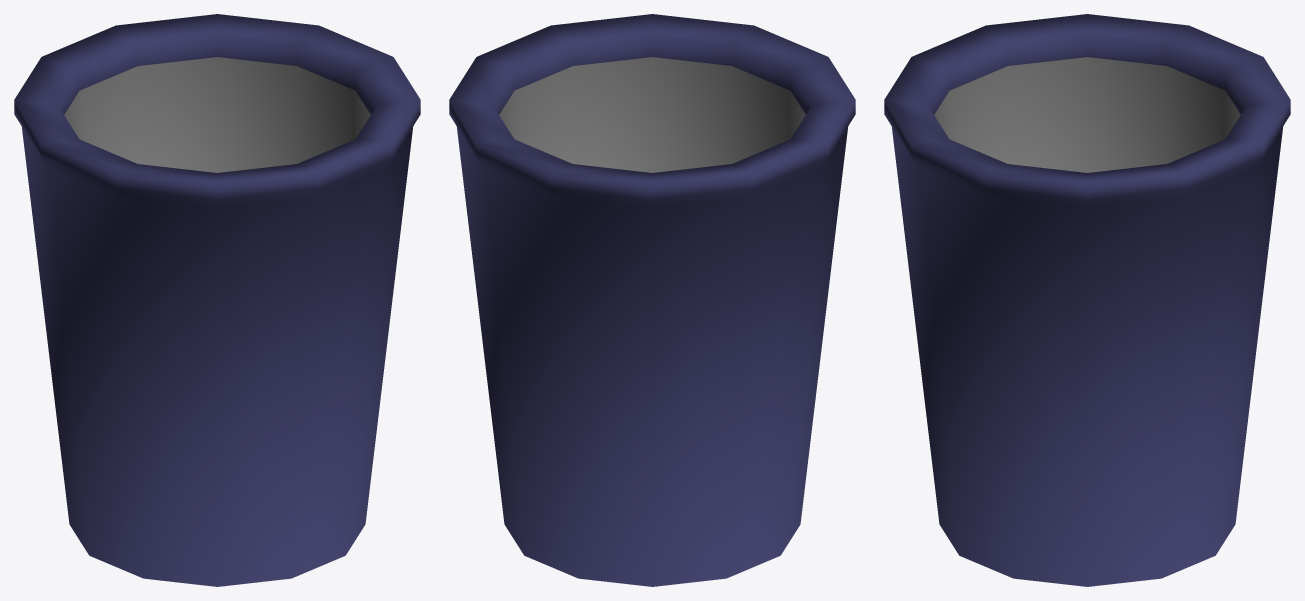
File: Trash_Cup1.fbx
The picture shows the model from 3 angles, left to right: view 1: azimuth 30°, elevation 25°; view 2: azimuth 150°, elevation 25°; view 3: azimuth 270°, elevation 25°; orthographic projection.
Parts seen in each view (by area): view 1: Cup; view 2: Cup; view 3: Cup.
Part boxes in pixels (left/top/right/bottom): Cup: left=14, top=14, right=420, bottom=586; Cup: left=449, top=14, right=855, bottom=586; Cup: left=884, top=14, right=1290, bottom=586.
Bounding box in the file's own units: 124 × 143 × 124.
